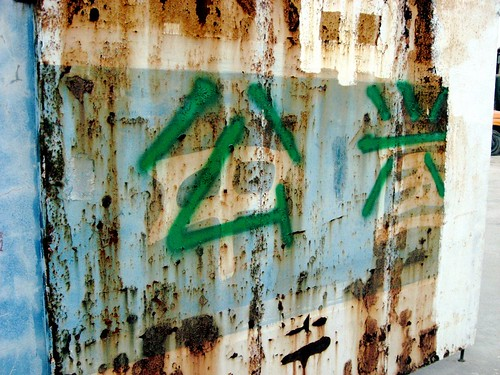graffiti: (151, 76, 306, 264), (352, 70, 456, 212)
wall: (37, 1, 470, 361)
